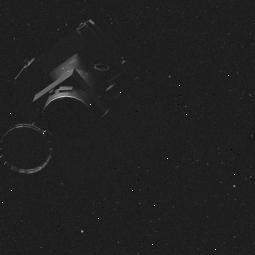cheops: (0, 18, 139, 180)
